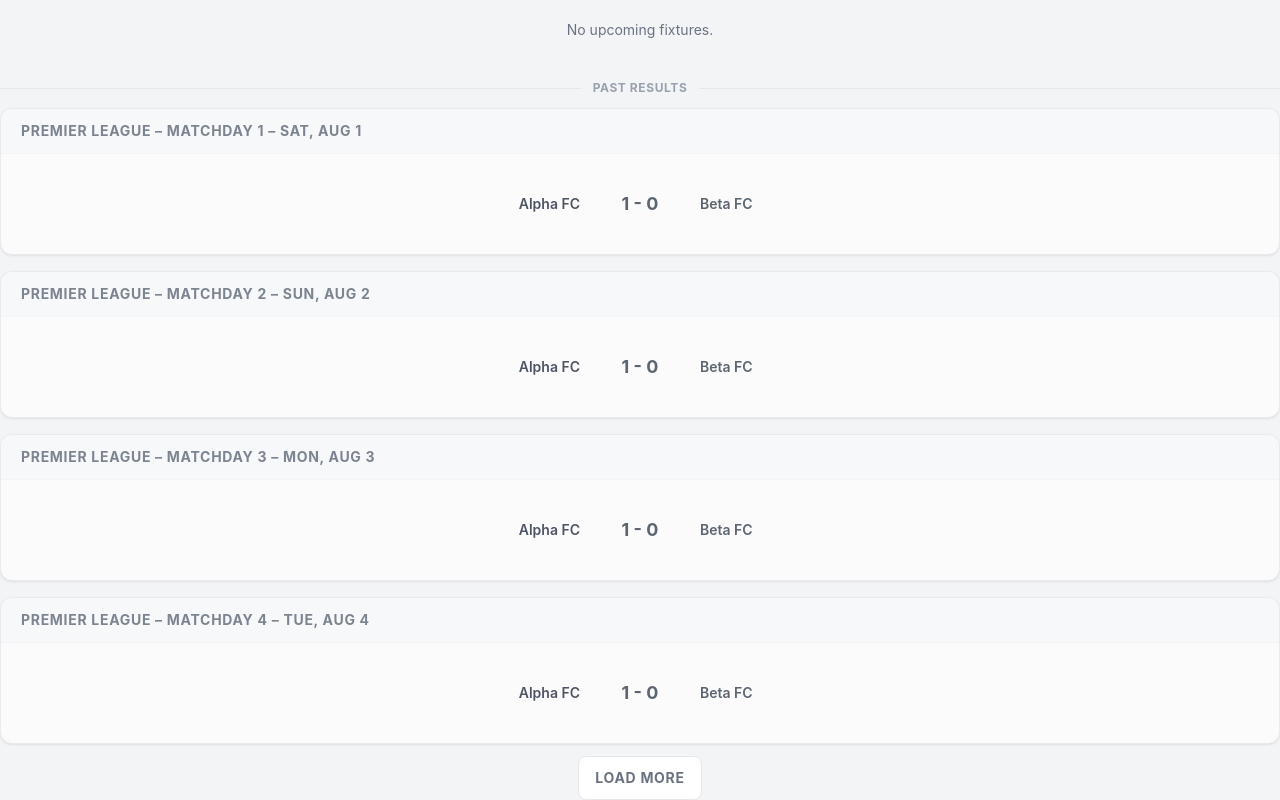
Test: ScheduleTab › calendar shows past groups with load-more when there are many
(page scrolled)
Expected: the element with test id "schedule-fixture-fix-past-0" is shown, [519, 193, 753, 214]
Expected: the element with test id "schedule-fixture-fix-past-3" is shown, [519, 682, 753, 703]
Click the button "Load more". click: {"x": 640, "y": 778}
box: [578, 756, 702, 799]
(page scrolled)
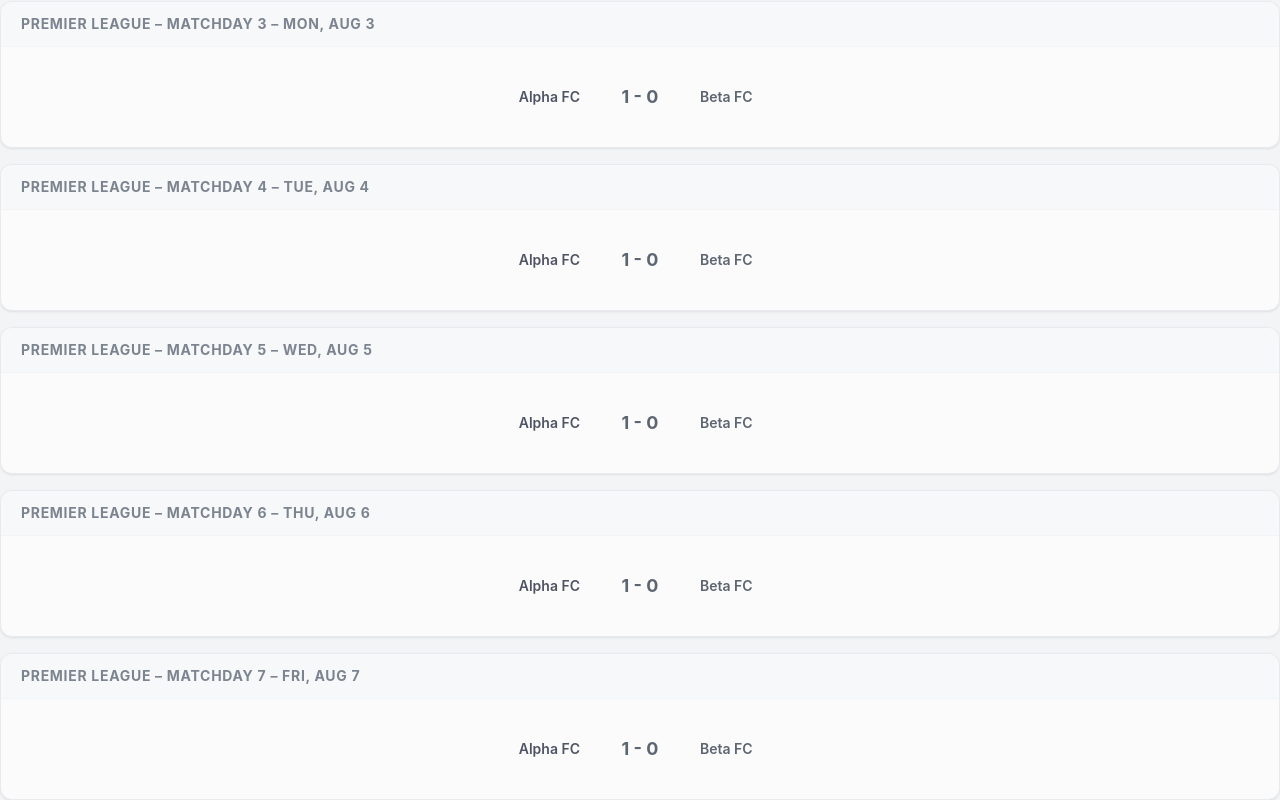
Now the element with test id "schedule-fixture-fix-past-4" is shown, box [519, 412, 753, 433]
Now the element with test id "schedule-fixture-fix-past-6" is shown, box [519, 738, 753, 759]
Now the button "Load more" is gone
